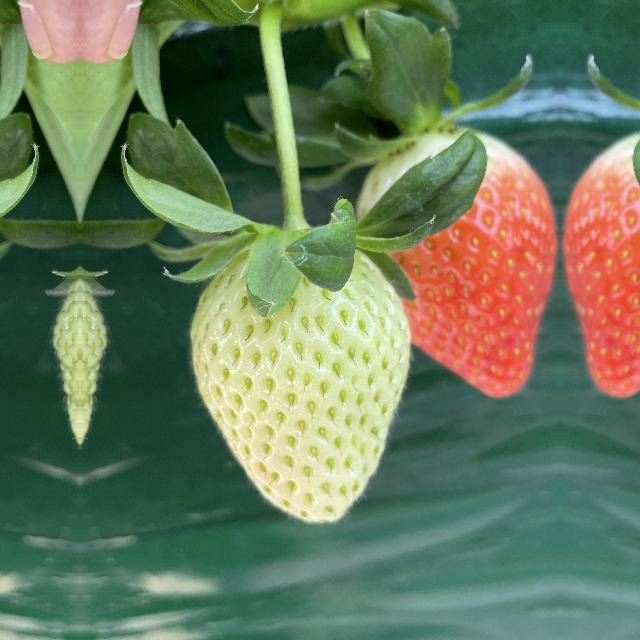Health_100: (351, 128, 559, 398), (561, 128, 640, 397)
Health_25: (188, 228, 416, 528)
